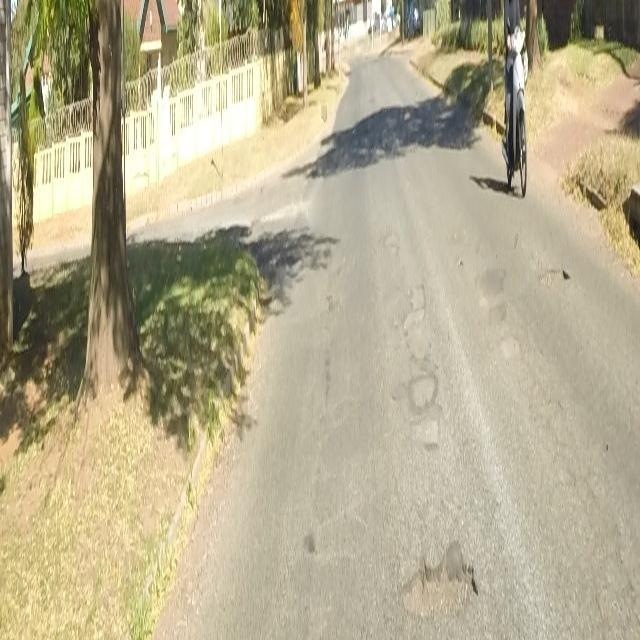pothole: (398, 558, 478, 612), (539, 260, 571, 292)
